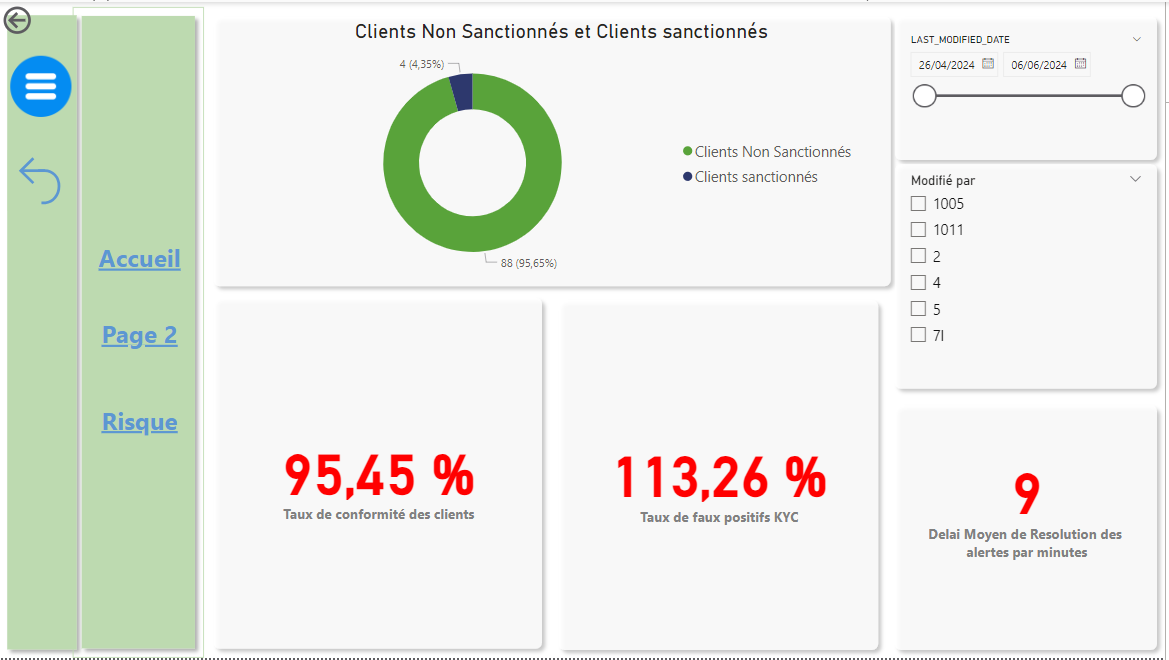

Layout of this report page (visuals, bound fields, positions):
{"tool":"powerbi","page":{"name":"Page 2","canvas":[1280,720],"ordinal":1},"visuals":[{"type":"shape","box":[0,5.7,94.3,714.3],"z":0},{"type":"actionButton","box":[12.9,50,67.1,85.7],"z":1000},{"type":"shape","box":[226.4,315.6,378.7,403.4],"z":2000},{"type":"actionButton","box":[0,0,100,40],"z":3000},{"type":"shape","box":[81.4,5.7,144.3,714.3],"z":4000},{"type":"actionButton","box":[85.7,227.1,138.6,104.3],"z":5000},{"type":"actionButton","box":[85.7,311.4,138.6,104.3],"z":6000},{"type":"shape","box":[226,6.6,761.6,314.2],"z":7000},{"type":"donutChart","fields":{"Y":["fact Fact.ClientNonSan","fact Fact.ClientSan"]},"box":[285,18.9,664.2,290.9],"z":8000},{"type":"actionButton","box":[10,162.9,70,65.7],"z":9000},{"type":"shape","box":[605.1,318.4,369.1,402.1],"z":10000},{"type":"actionButton","box":[85.6,406.6,138.5,104.5],"z":11000},{"type":"card","fields":{"Values":["fact Fact.Taux de faux positifs KYC"]},"box":[617.5,337.6,347.2,371.9],"z":12000},{"type":"card","fields":{"Values":["fact Fact.Taux de conformité des clients"]},"box":[240.1,332.1,354,377.4],"z":13000},{"type":"shape","box":[973.7,433.2,306,286.8],"z":14000},{"type":"card","fields":{"Values":["fact Fact.Delai_Moyen_Resolution"]},"box":[990.2,433.2,275.8,216.8],"z":15000},{"type":"shape","box":[974.3,6.9,306,175.6],"z":16000},{"type":"slicer","fields":{"Values":["dim sanction.LAST_MODIFIED_DATE"]},"box":[988,30.2,278.6,134.5],"z":17000},{"type":"shape","box":[974.3,168.8,306,264.8],"z":18000},{"type":"slicer","fields":{"Values":["dim sanction.LAST_MODIFIED_BY"]},"box":[988,182.5,278.6,233.3],"z":19000}]}

Visuals, with their boxes on the page's 1280x720 design canvas (x1, y1, x2, y2). These are canvas units, not pixel positions in the 1169x660 screenshot, which may show the page scaled, cropped or inside an application window:
shape: (x1=0, y1=6, x2=94, y2=720)
actionButton: (x1=13, y1=50, x2=80, y2=136)
shape: (x1=226, y1=316, x2=605, y2=719)
actionButton: (x1=0, y1=0, x2=100, y2=40)
shape: (x1=81, y1=6, x2=226, y2=720)
actionButton: (x1=86, y1=227, x2=224, y2=331)
actionButton: (x1=86, y1=311, x2=224, y2=416)
shape: (x1=226, y1=7, x2=988, y2=321)
donutChart - fact Fact.ClientNonSan x fact Fact.ClientSan: (x1=285, y1=19, x2=949, y2=310)
actionButton: (x1=10, y1=163, x2=80, y2=229)
shape: (x1=605, y1=318, x2=974, y2=720)
actionButton: (x1=86, y1=407, x2=224, y2=511)
card - fact Fact.Taux de faux positifs KYC: (x1=618, y1=338, x2=965, y2=710)
card - fact Fact.Taux de conformité des clients: (x1=240, y1=332, x2=594, y2=710)
shape: (x1=974, y1=433, x2=1280, y2=720)
card - fact Fact.Delai_Moyen_Resolution: (x1=990, y1=433, x2=1266, y2=650)
shape: (x1=974, y1=7, x2=1280, y2=182)
slicer - dim sanction.LAST_MODIFIED_DATE: (x1=988, y1=30, x2=1267, y2=165)
shape: (x1=974, y1=169, x2=1280, y2=434)
slicer - dim sanction.LAST_MODIFIED_BY: (x1=988, y1=182, x2=1267, y2=416)
